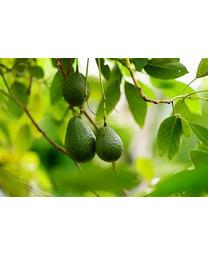avocado: (63, 114, 98, 163), (93, 124, 125, 163), (61, 71, 90, 107)
